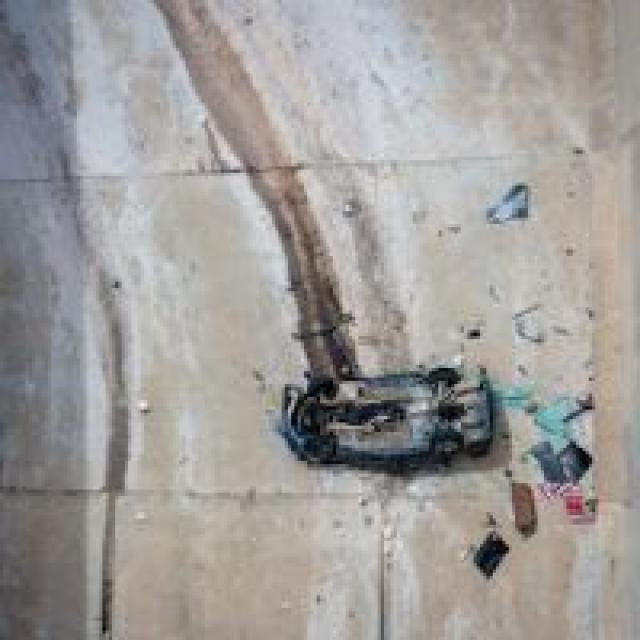traffic_incident: (247, 339, 516, 480)
